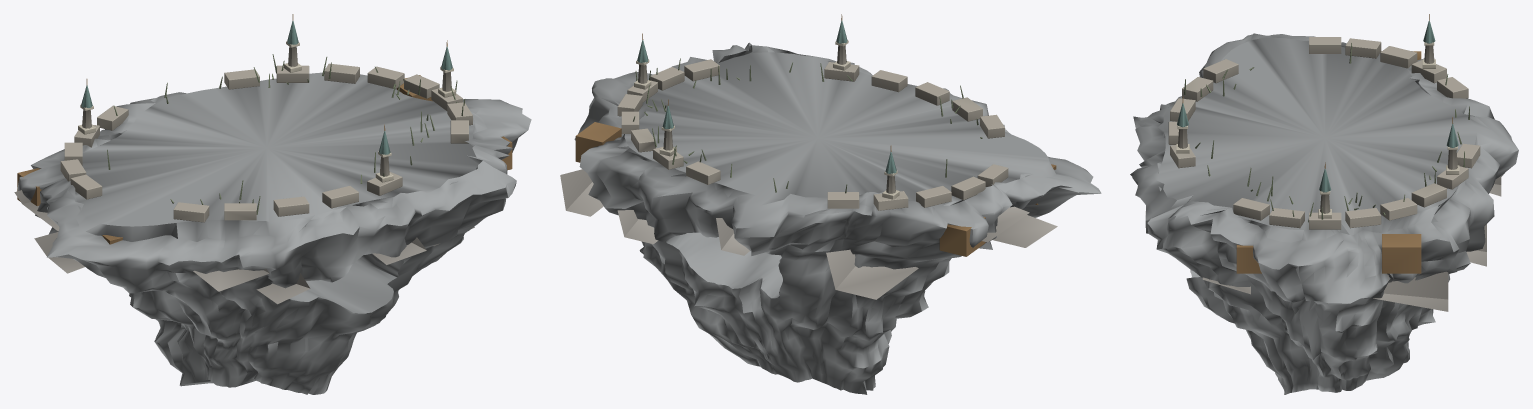
The model's file is editor-island-terrace.glb.
3 views of the same model, side by side, from view 1: azimuth 30°, elevation 25°; view 2: azimuth 150°, elevation 25°; view 3: azimuth 270°, elevation 25° (orthographic). The views are drawn at different scales.
Visible parts, largest first — view 1: island-terrace__rock, island-terrace__limestone, island-terrace__rock_light, island-terrace__moss, island-terrace__bronze, island-terrace__copper, island-terrace__pale; view 2: island-terrace__rock, island-terrace__limestone, island-terrace__rock_light, island-terrace__bronze, island-terrace__moss, island-terrace__copper, island-terrace__pale; view 3: island-terrace__rock, island-terrace__limestone, island-terrace__rock_light, island-terrace__bronze, island-terrace__moss, island-terrace__copper, island-terrace__pale.
Part boxes in pixels (bbox=[...]): island-terrace__rock: bbox=[17, 72, 531, 394]; island-terrace__limestone: bbox=[60, 46, 472, 222]; island-terrace__rock_light: bbox=[14, 190, 474, 304]; island-terrace__moss: bbox=[107, 54, 464, 214]; island-terrace__bronze: bbox=[17, 14, 512, 244]; island-terrace__copper: bbox=[81, 21, 452, 154]; island-terrace__pale: bbox=[78, 41, 455, 182]; island-terrace__rock: bbox=[574, 42, 1101, 394]; island-terrace__limestone: bbox=[617, 45, 1008, 210]; island-terrace__rock_light: bbox=[560, 169, 1057, 299]; island-terrace__bronze: bbox=[575, 14, 1056, 256]; island-terrace__moss: bbox=[633, 58, 982, 193]; island-terrace__copper: bbox=[637, 20, 896, 173]; island-terrace__pale: bbox=[634, 40, 899, 199]; island-terrace__rock: bbox=[1130, 33, 1518, 394]; island-terrace__limestone: bbox=[1168, 37, 1480, 229]; island-terrace__rock_light: bbox=[1145, 51, 1501, 311]; island-terrace__bronze: bbox=[1182, 14, 1453, 273]; island-terrace__moss: bbox=[1184, 43, 1469, 222]; island-terrace__copper: bbox=[1177, 20, 1458, 192]; island-terrace__pale: bbox=[1176, 42, 1459, 218].
Size of the model in its own units: 234 by 137 by 159.
